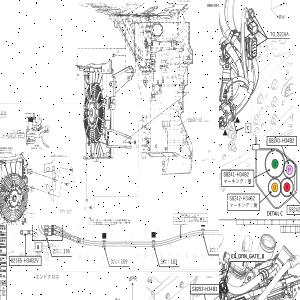PartNumber: (228, 194, 256, 202), (10, 257, 39, 264), (268, 137, 295, 144), (223, 171, 250, 177), (191, 286, 218, 292), (287, 206, 300, 213), (50, 154, 64, 157), (0, 151, 12, 154), (59, 209, 73, 211), (0, 149, 12, 151)
